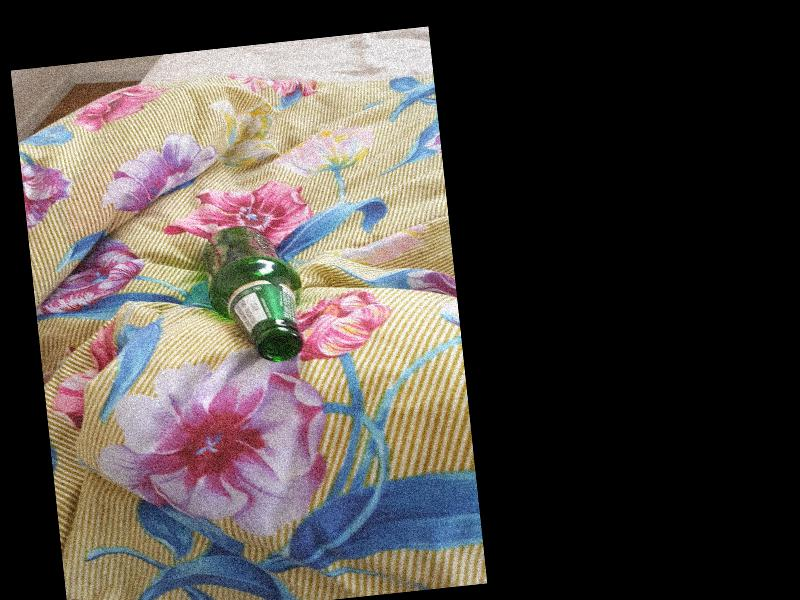Beer: (204, 220, 308, 367)
